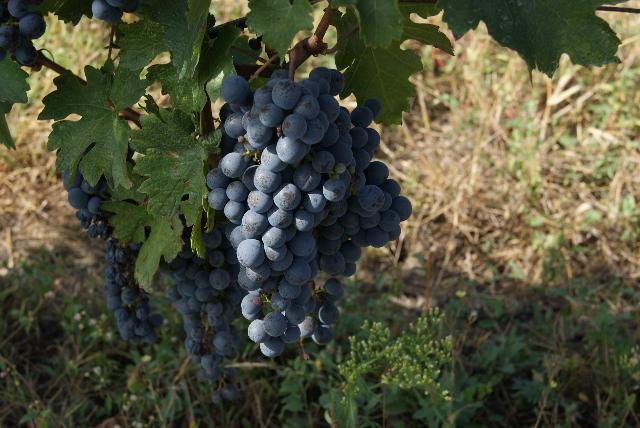grapes: (206, 66, 411, 358), (62, 161, 164, 345), (166, 224, 246, 382)
